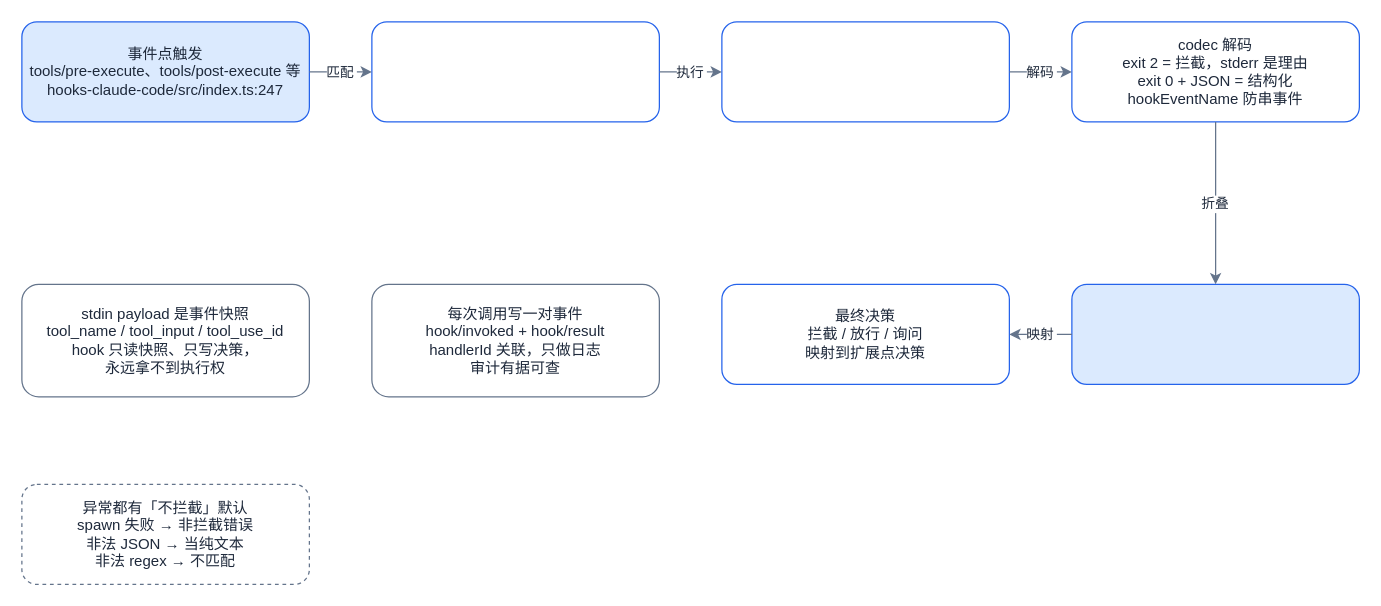
The diagram is 1381 pixels wide and 606 high, and some of its shapes have lost their labels. The box of each missing label's shape, as (x1, y1, x2, y2) in pixels:
matcher 匹配 CC：纯字面量，| 是精确备选 Codex：无锚 regex 缺省 / * = 全匹配: (371, 21, 659, 122)
merge 最严格胜出 deny > ask > allow continue:false 粘性停 理由只留获胜档位: (1071, 283, 1359, 384)
runHook 执行 JSON payload 写 stdin 走 ctx.shell（凭证擦除/超时） 默认超时 10 分钟: (721, 21, 1009, 122)
